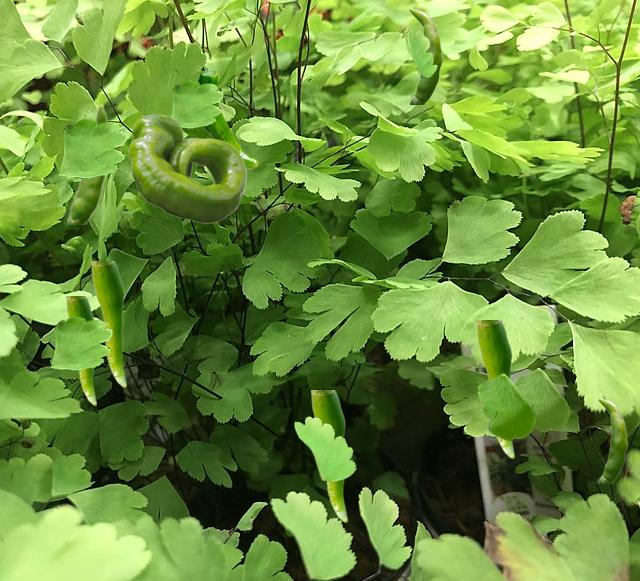green_chili: (128, 114, 245, 222), (197, 71, 257, 167), (476, 320, 513, 457), (67, 103, 108, 223), (311, 390, 346, 521), (91, 261, 125, 386), (408, 7, 442, 103), (66, 296, 95, 404), (597, 397, 627, 482)
